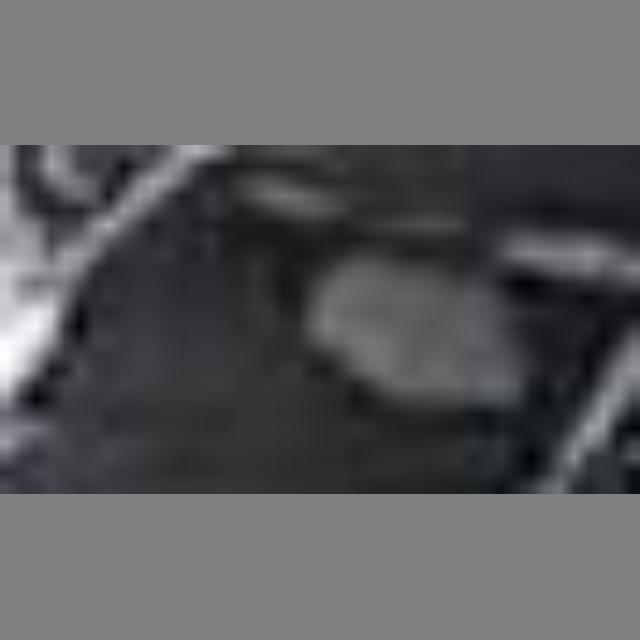tidak-pakai: (262, 218, 524, 407)
